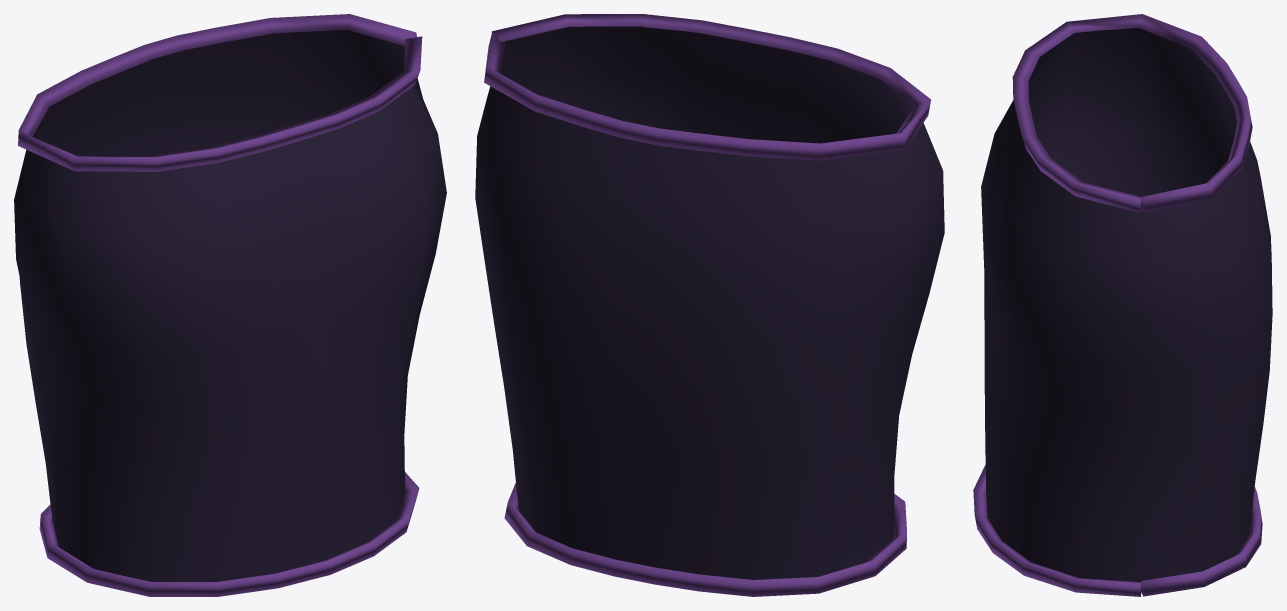
Rendered from witch_costume_chest.glb.
3 renders of one model, left to right at view 1: azimuth 30°, elevation 25°; view 2: azimuth 150°, elevation 25°; view 3: azimuth 270°, elevation 25°, orthographic. The views are drawn at different scales.
Parts seen in each view (by area): view 1: witch_costume_chest; view 2: witch_costume_chest; view 3: witch_costume_chest.
Part boxes in pixels (x1,y1,x2,y2): witch_costume_chest: [14, 14, 446, 596]; witch_costume_chest: [475, 14, 944, 596]; witch_costume_chest: [973, 14, 1272, 596].
Bounding box in the file's own units: 0.3787 × 0.3858 × 0.2536.
